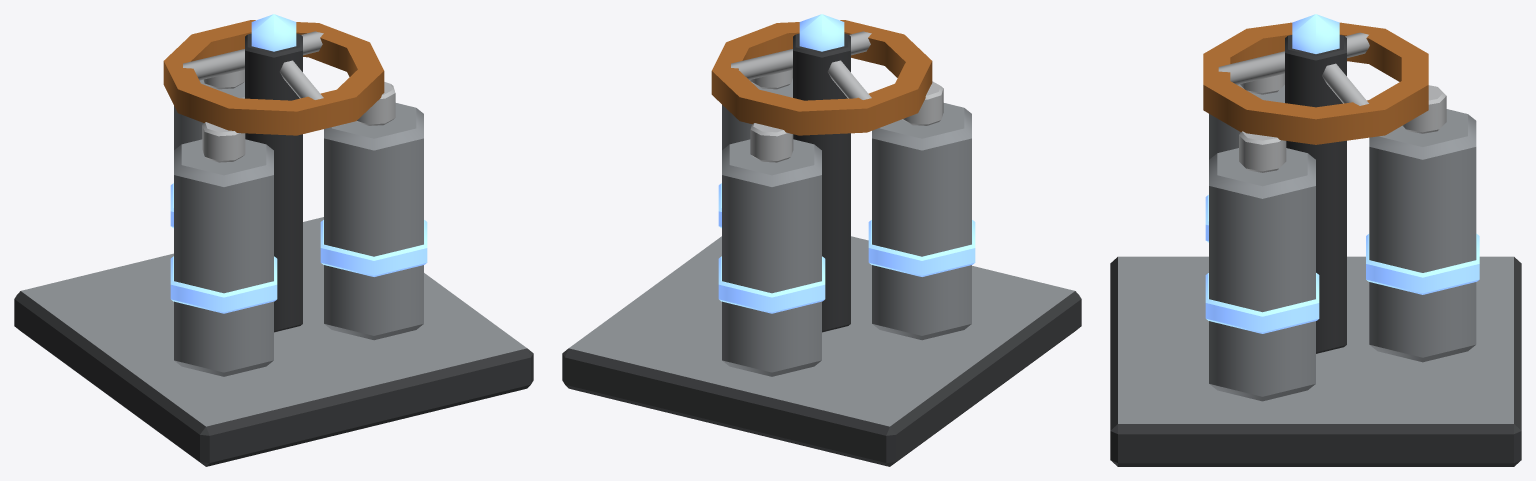
File: R4X_ChargeRegenerator_LOD1.fbx
3 renders of one model, left to right at view 1: azimuth 30°, elevation 25°; view 2: azimuth 150°, elevation 25°; view 3: azimuth 270°, elevation 25°, orthographic. The views are drawn at different scales.
Visible parts, largest first — view 1: R4X_ChargeRegenerator_LOD1; view 2: R4X_ChargeRegenerator_LOD1; view 3: R4X_ChargeRegenerator_LOD1.
Part boxes in pixels (<box>): R4X_ChargeRegenerator_LOD1: <box>14,14,533,466</box>; R4X_ChargeRegenerator_LOD1: <box>562,14,1081,466</box>; R4X_ChargeRegenerator_LOD1: <box>1110,14,1521,466</box>.
Size of the model in its own units: 0.52 by 0.515 by 0.52.
